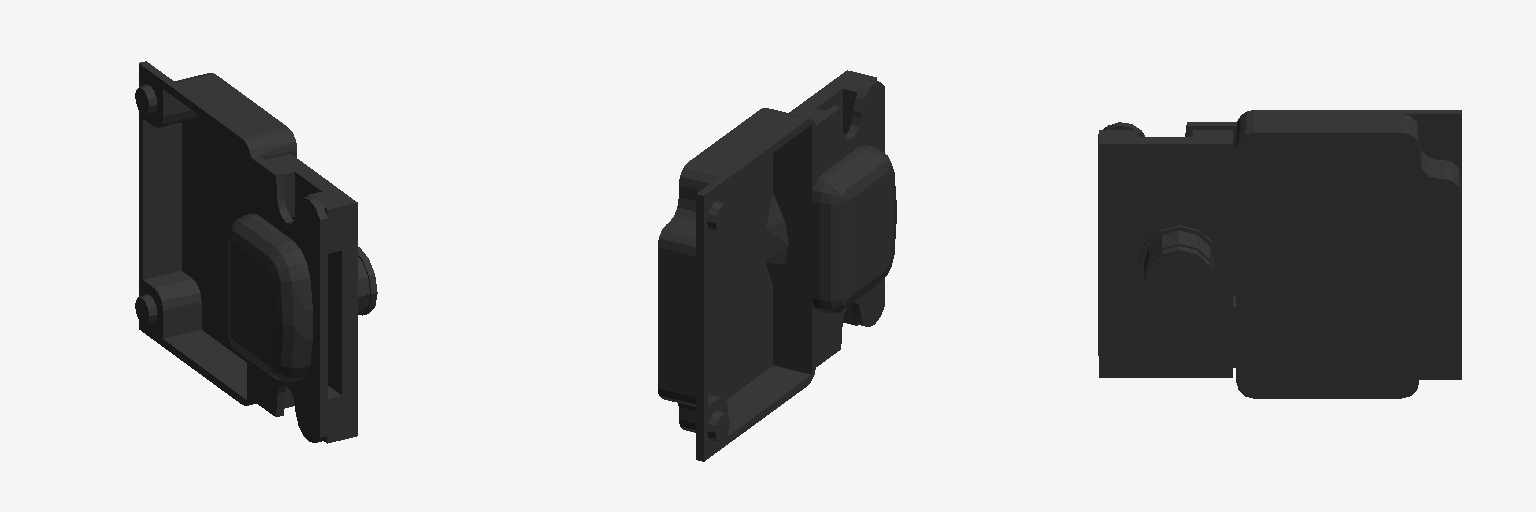
File: Elbow_Bracket_01_1__1_mesh_1.obj
3 renders of one model, left to right at view 1: azimuth 30°, elevation 25°; view 2: azimuth 150°, elevation 25°; view 3: azimuth 270°, elevation 25°, orthographic.
Bounding box in the file's own units: 0.0139 × 0.033 × 0.0408.